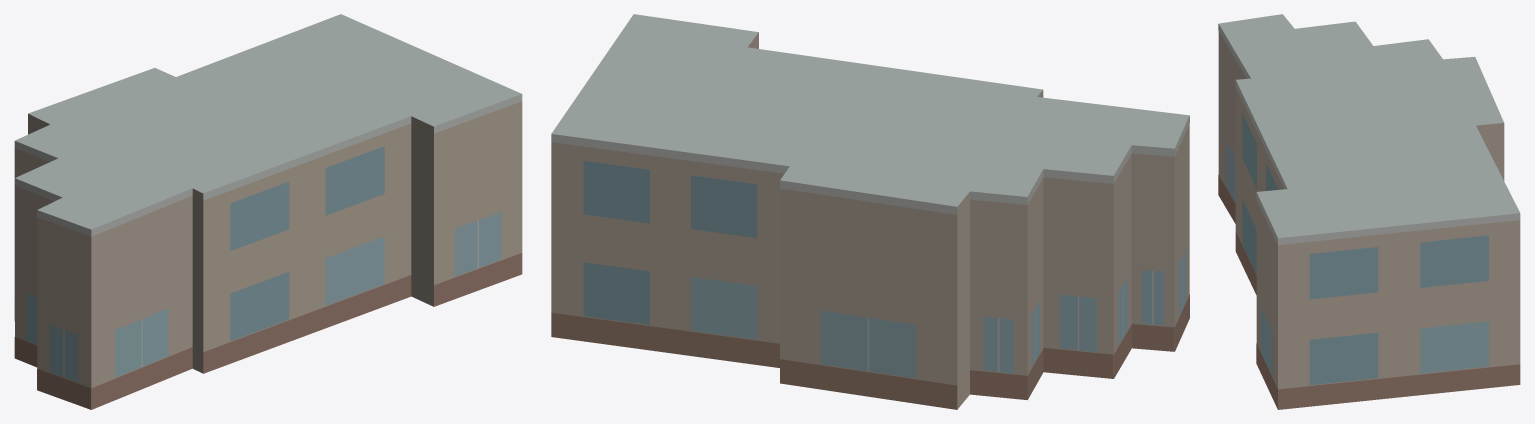
File: survey-upis-32893210.glb
3 views of the same model, side by side, from view 1: azimuth 30°, elevation 25°; view 2: azimuth 150°, elevation 25°; view 3: azimuth 270°, elevation 25° (orthographic). The views are drawn at different scales.
Visible parts, largest first — view 1: survey-upis-32893210.tmp; view 2: survey-upis-32893210.tmp; view 3: survey-upis-32893210.tmp.
Part boxes in pixels (left/top/right/bottom): survey-upis-32893210.tmp: left=14, top=14, right=522, bottom=409; survey-upis-32893210.tmp: left=551, top=14, right=1189, bottom=409; survey-upis-32893210.tmp: left=1218, top=14, right=1520, bottom=409.
Bounding box in the file's own units: 17.11 × 6.1 × 9.74.
